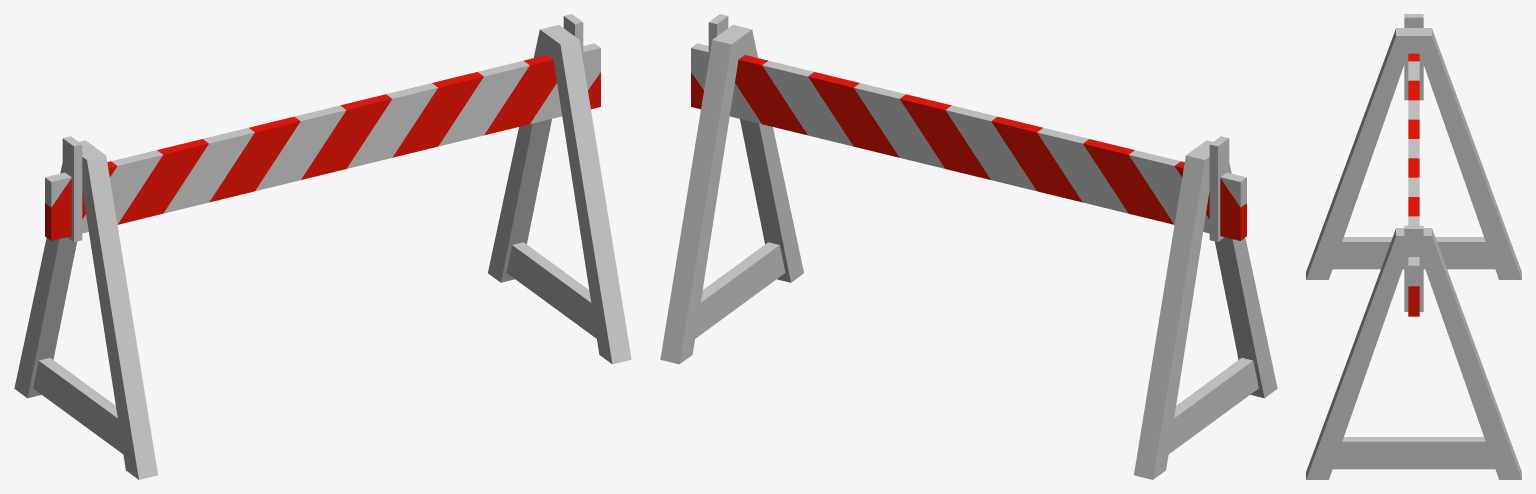
Rendered from Prop_RoadBlock.fbx.
The picture shows the model from 3 angles, left to right: view 1: azimuth 30°, elevation 25°; view 2: azimuth 150°, elevation 25°; view 3: azimuth 270°, elevation 25°; orthographic projection. The views are drawn at different scales.
Parts seen in each view (by area): view 1: Prop_RoadBlock; view 2: Prop_RoadBlock; view 3: Prop_RoadBlock.
Boxes of the visible parts, x1,y1,x2,y2 form: Prop_RoadBlock: [14, 14, 631, 479]; Prop_RoadBlock: [660, 14, 1277, 479]; Prop_RoadBlock: [1306, 14, 1521, 479].
Bounding box in the file's own units: 111 × 56.75 × 43.63.
